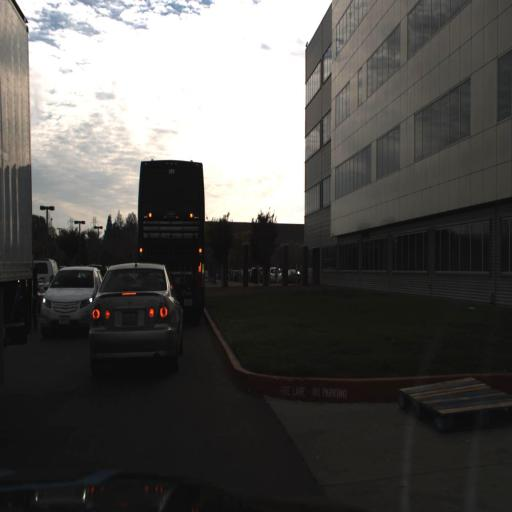car: (81, 259, 179, 348), (35, 263, 105, 325), (268, 262, 287, 285)
truck: (0, 0, 37, 392), (135, 154, 205, 300)
